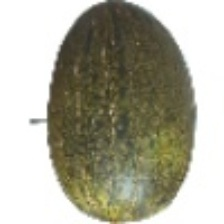honeydew: (34, 2, 187, 195)
